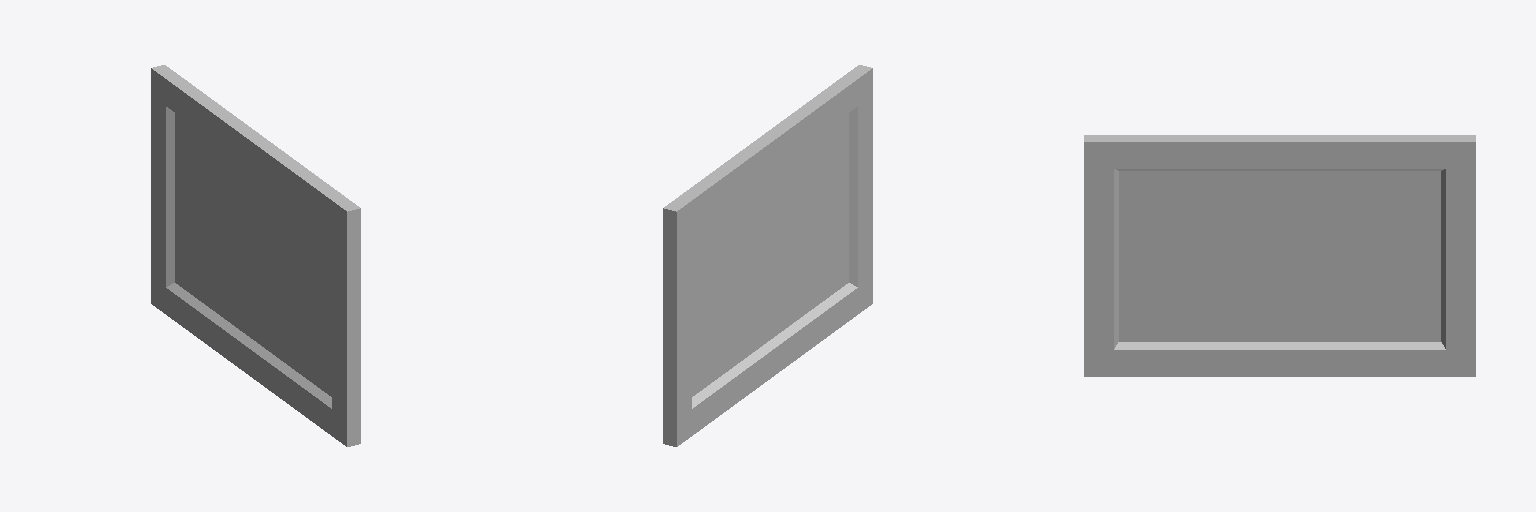
File: BarDoor.obj
3 views of the same model, side by side, from view 1: azimuth 30°, elevation 25°; view 2: azimuth 150°, elevation 25°; view 3: azimuth 270°, elevation 25° (orthographic).
Parts seen in each view (by area): view 1: Cube.038; view 2: Cube.038; view 3: Cube.038.
Part boxes in pixels (x1,y1,x2,y2): Cube.038: (151, 65, 360, 446); Cube.038: (663, 65, 872, 446); Cube.038: (1084, 135, 1475, 376).
Bounding box in the file's own units: 0.0508 × 0.8236 × 1.24.